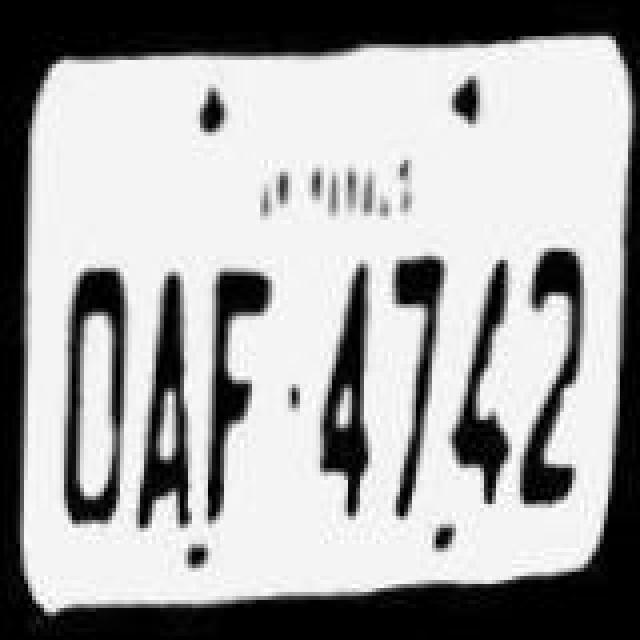2: (512, 232, 600, 528)
4: (302, 238, 386, 526), (440, 222, 520, 522)
7: (376, 234, 456, 530)
A: (132, 244, 204, 528)
F: (198, 252, 282, 524)
O: (38, 240, 138, 536)
